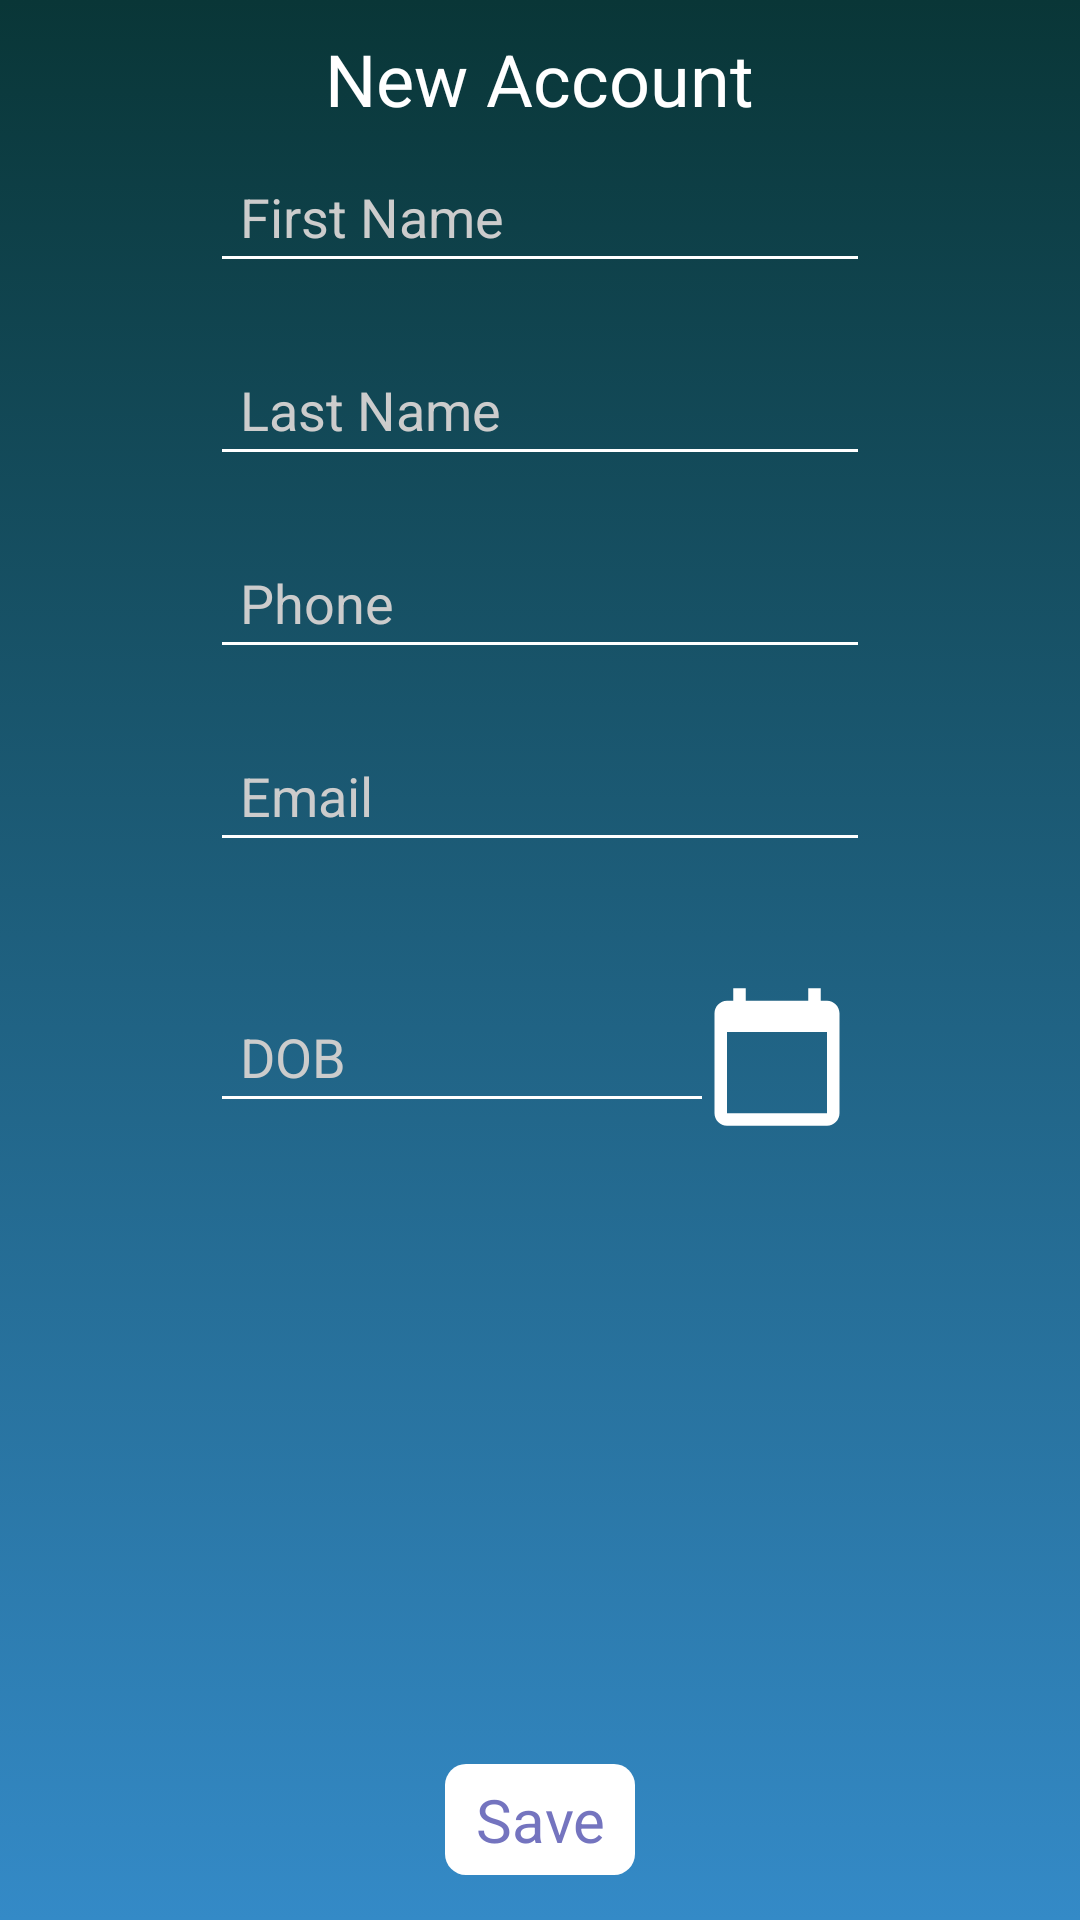

Where icons sit on this 1080px x 1920px app screen, as (x1, y1, x2, y2):
calendar today: (714, 988, 840, 1126)
